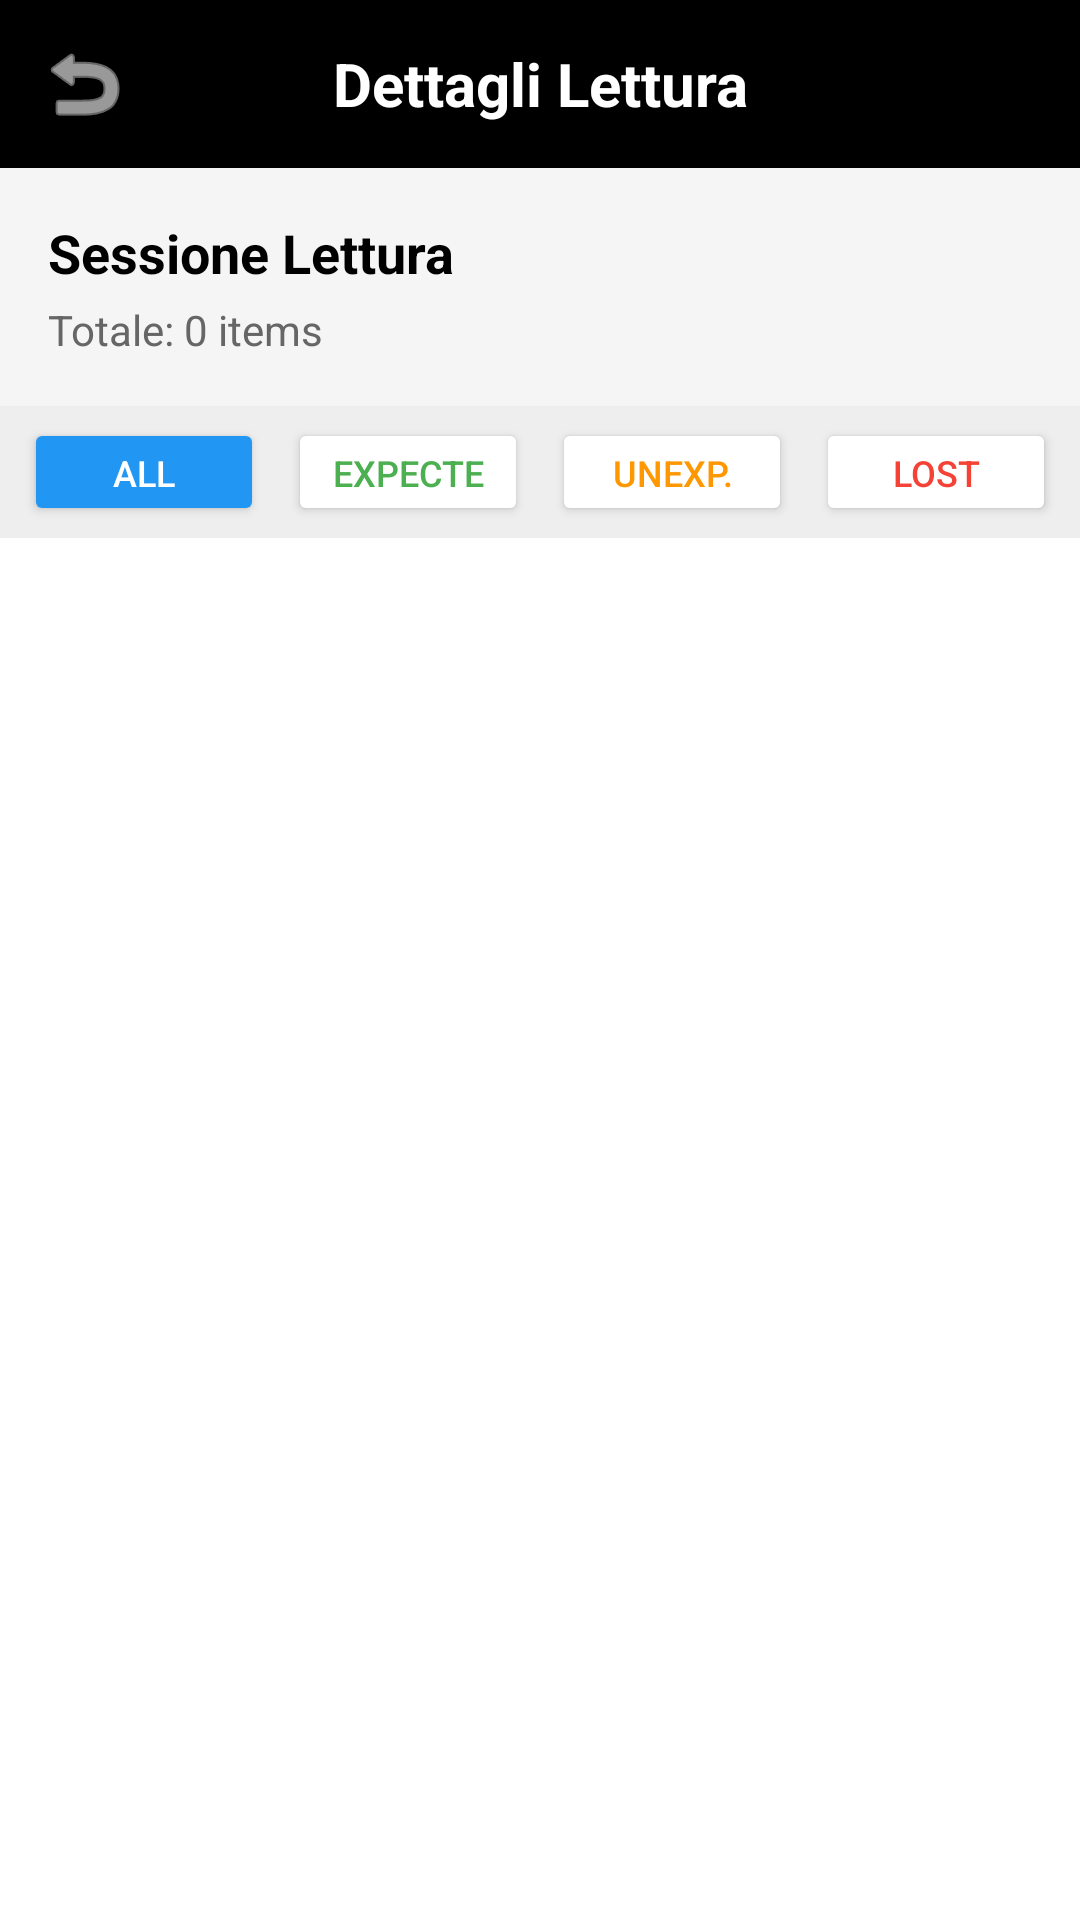

Icons on this 1080 × 1920 Android screen, each with the point to tap as [x,y]:
Back: [85,84]
